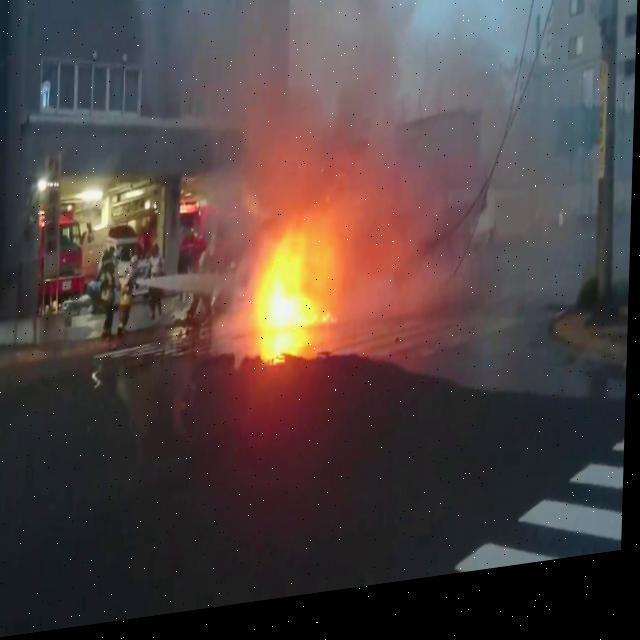Fire: (255, 232, 342, 344)
